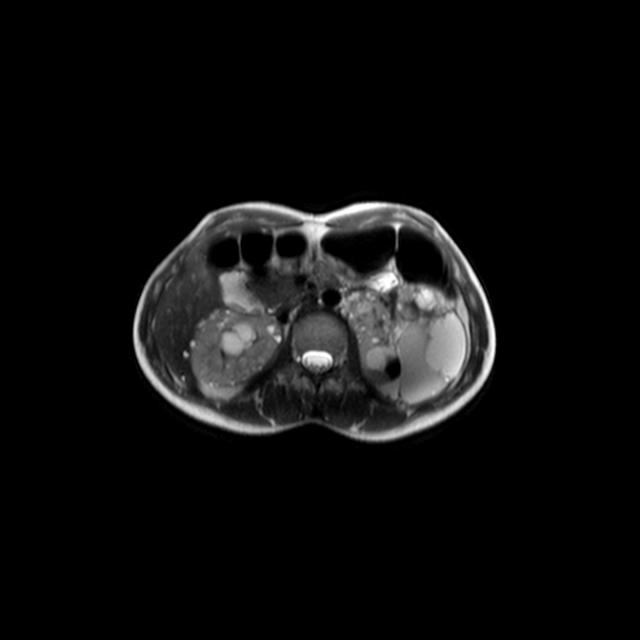sag: (190, 307, 282, 392)
sol: (341, 271, 468, 403)
